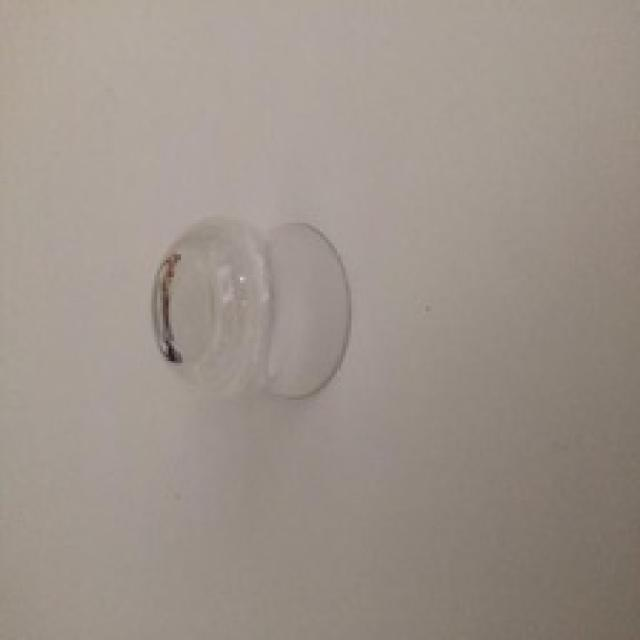Glass: (147, 220, 356, 402)
